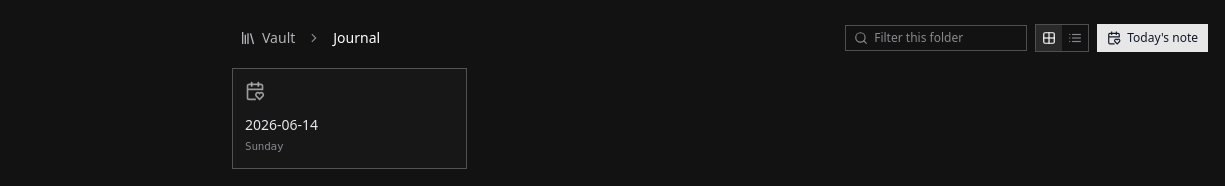
it: VaultBrowserPane - right-click menu › offers a journal entry no rename and no move, since its date is its filing
Right-click the element showing "2026-06-14 Sunday" at (350, 118), box [232,68,467,168]
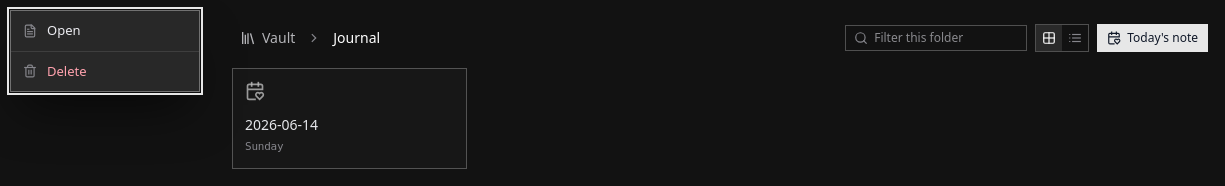
Now the menu items read "Open", "Delete", in this order, box [11,15,199,46]; [11,56,199,87]
